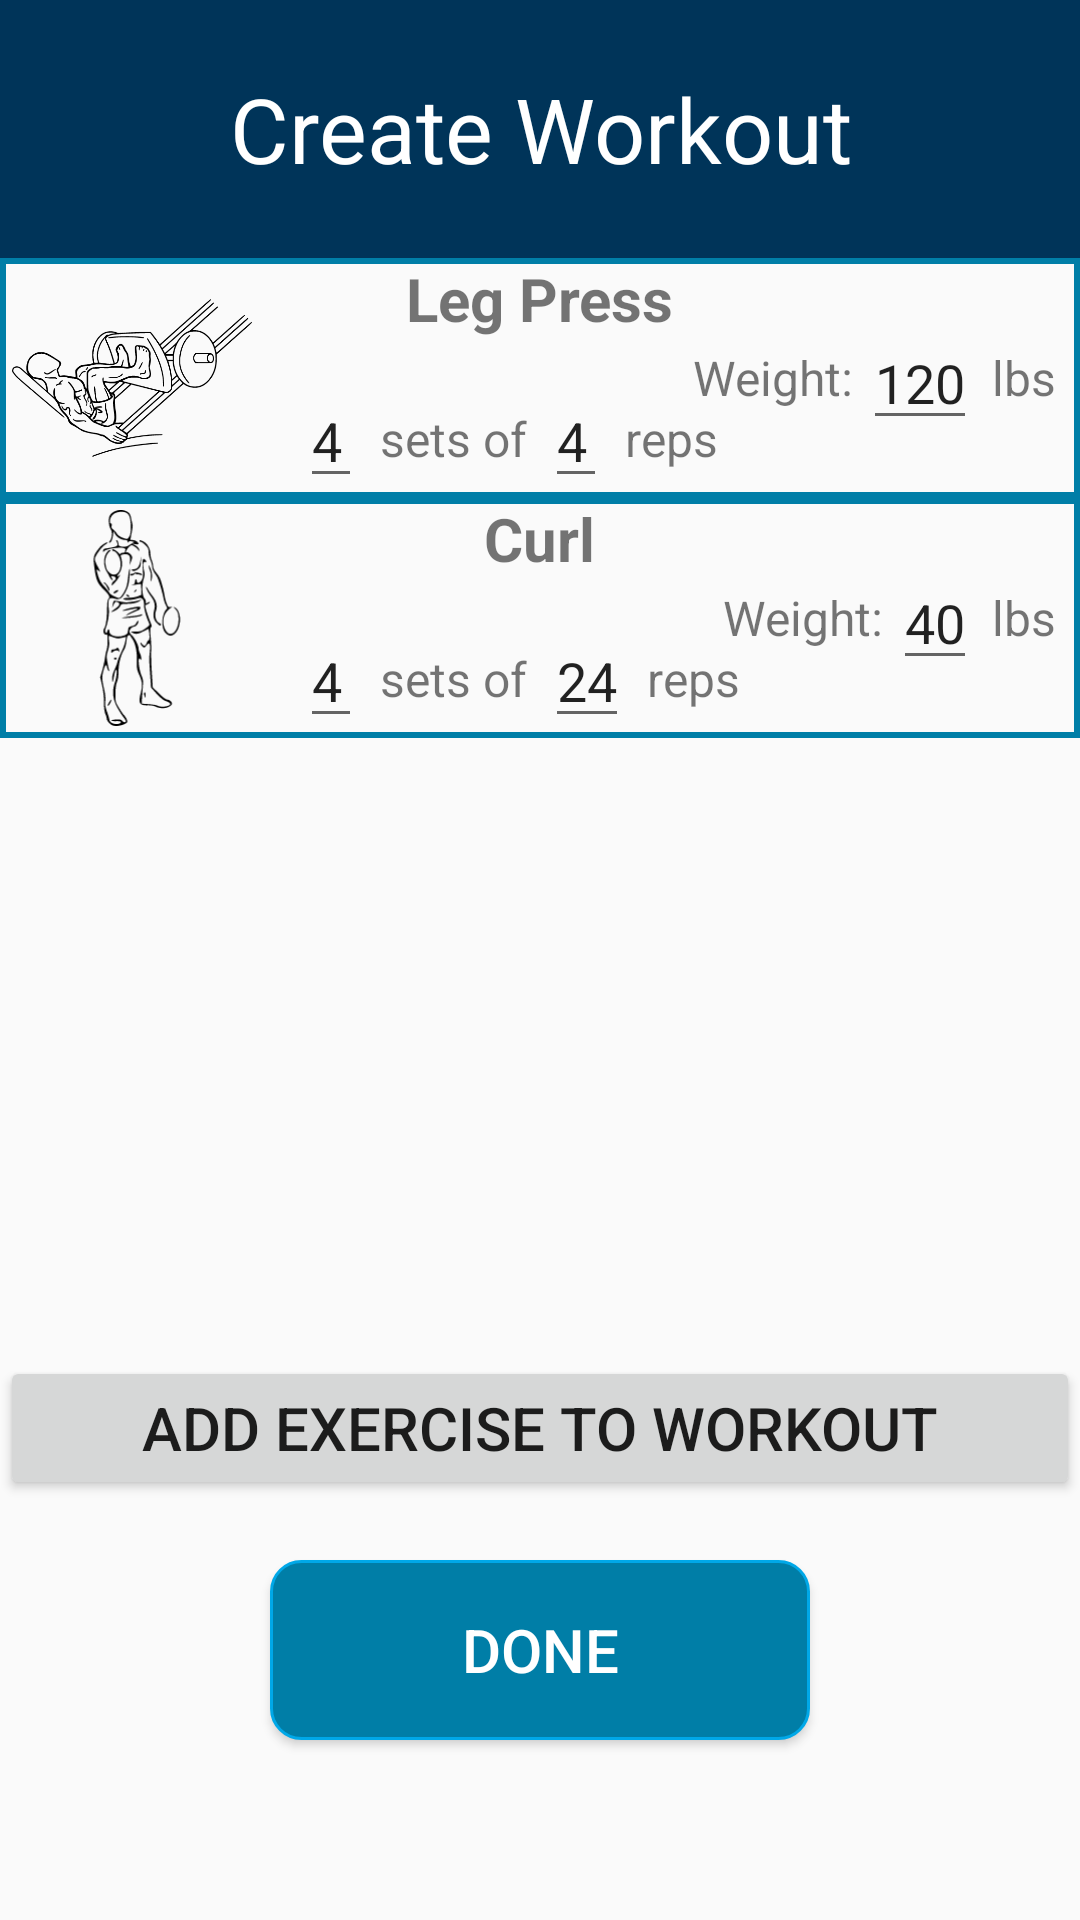

Where to tap for icons on this 1080×1920 app screen, as (x,y):
alternate bicep curl: (137,618)
leg press: (132,378)
